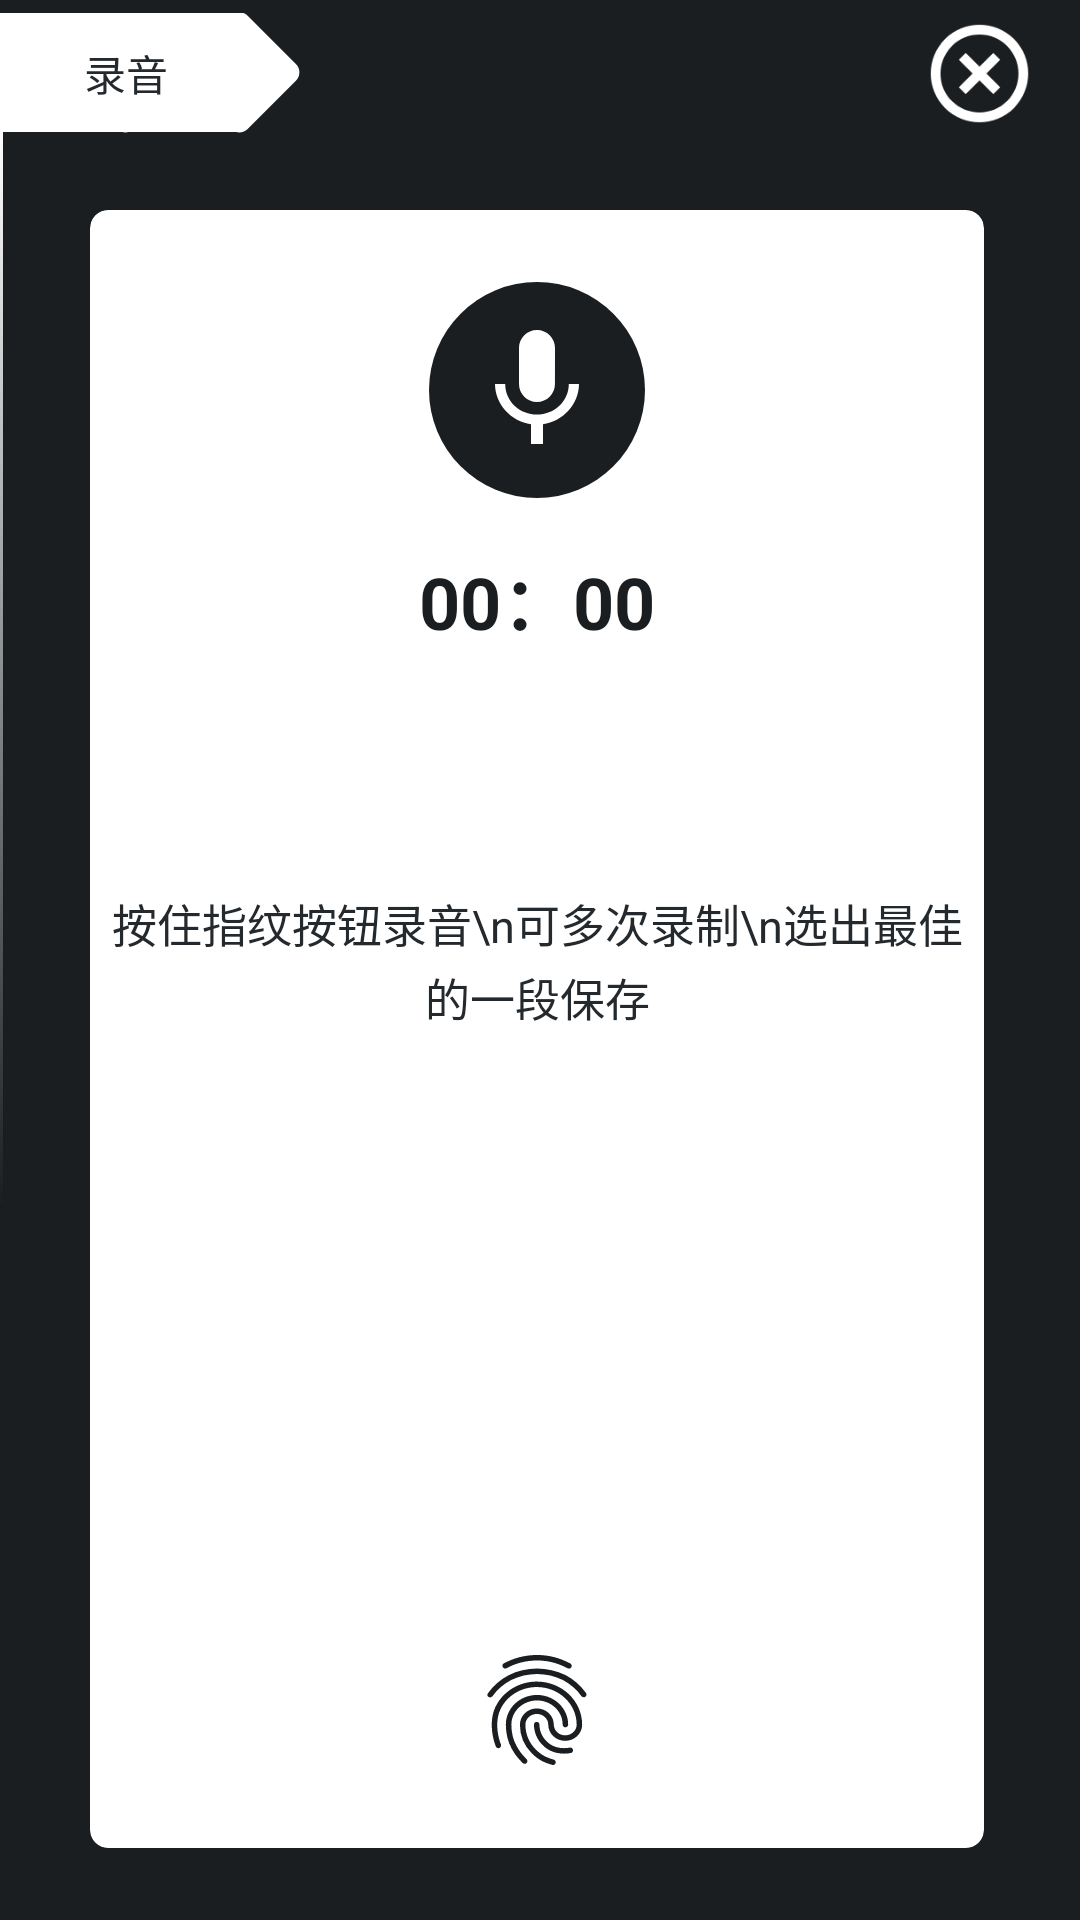

Screen size 1080*1920. Icon name, then its center in pixels as point (x, y):
editor del: point (979, 73)
fingerprint: point (537, 1710)
mic layer list: point (537, 387)
